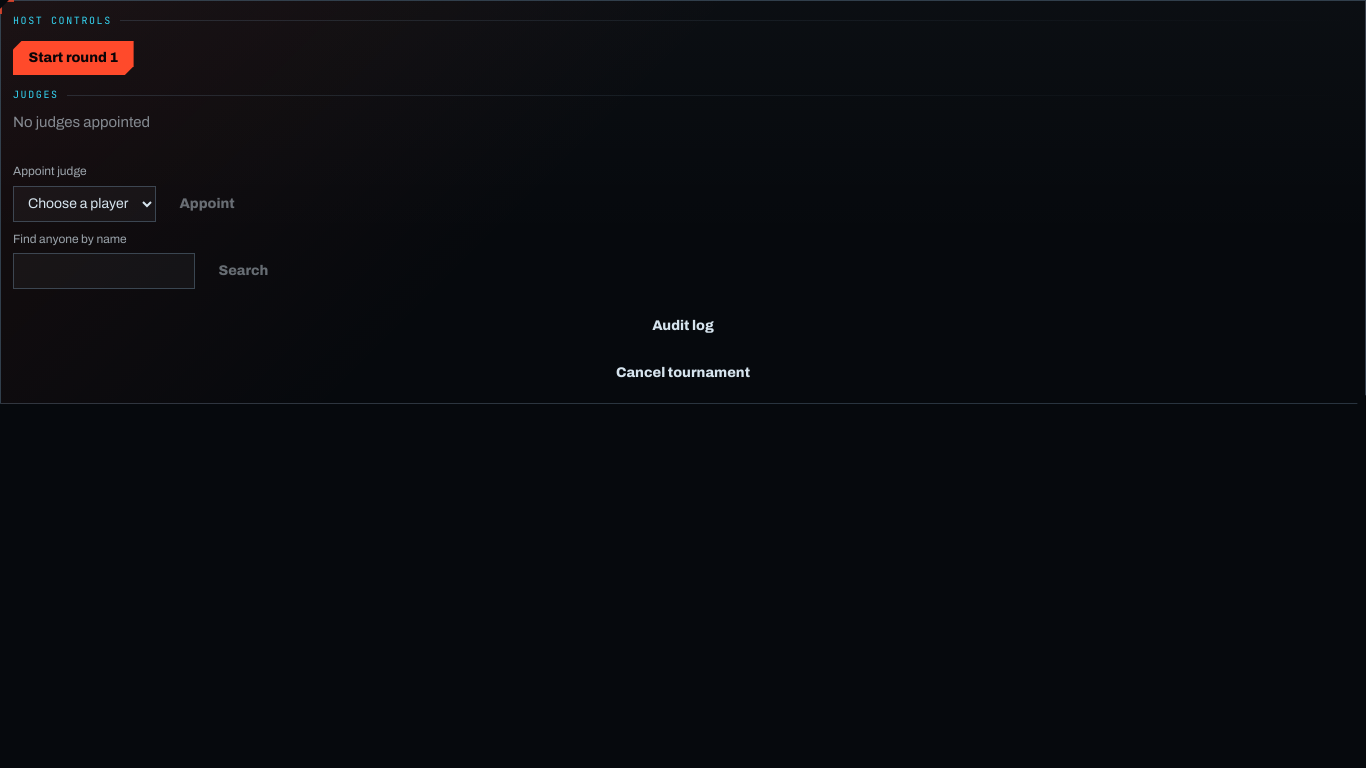
Test: lifecycle › closed: Start round 1 previews pairings and starts nothing until confirmed
The image size is (1366, 768).
Click the button "Start round 1".
click(73, 58)  # box [13, 40, 134, 75]
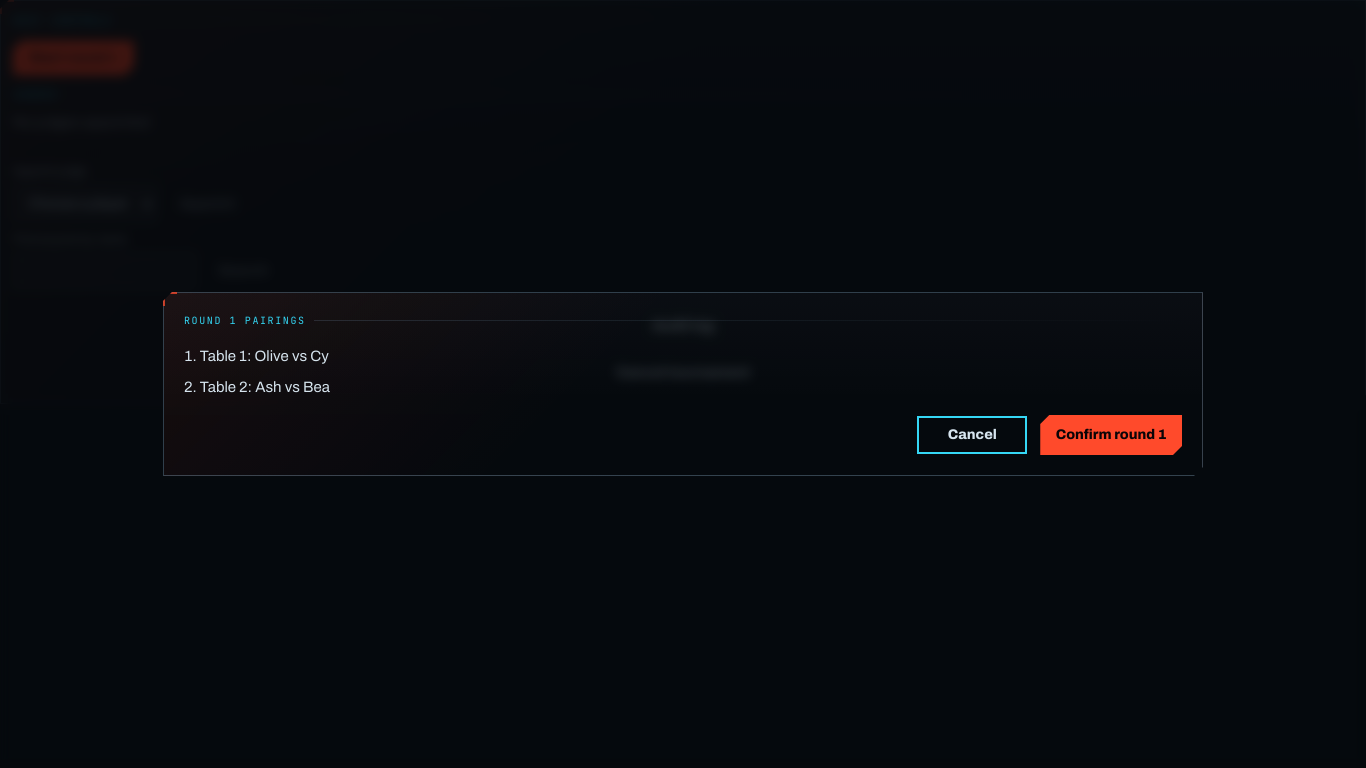
Check: the number of list items "Table 1: Olive vs Cy" is 2, box [200, 348, 329, 364]; [200, 379, 330, 395]
Click the button "Confirm round 1".
click(1111, 435)  # box [1040, 415, 1182, 455]
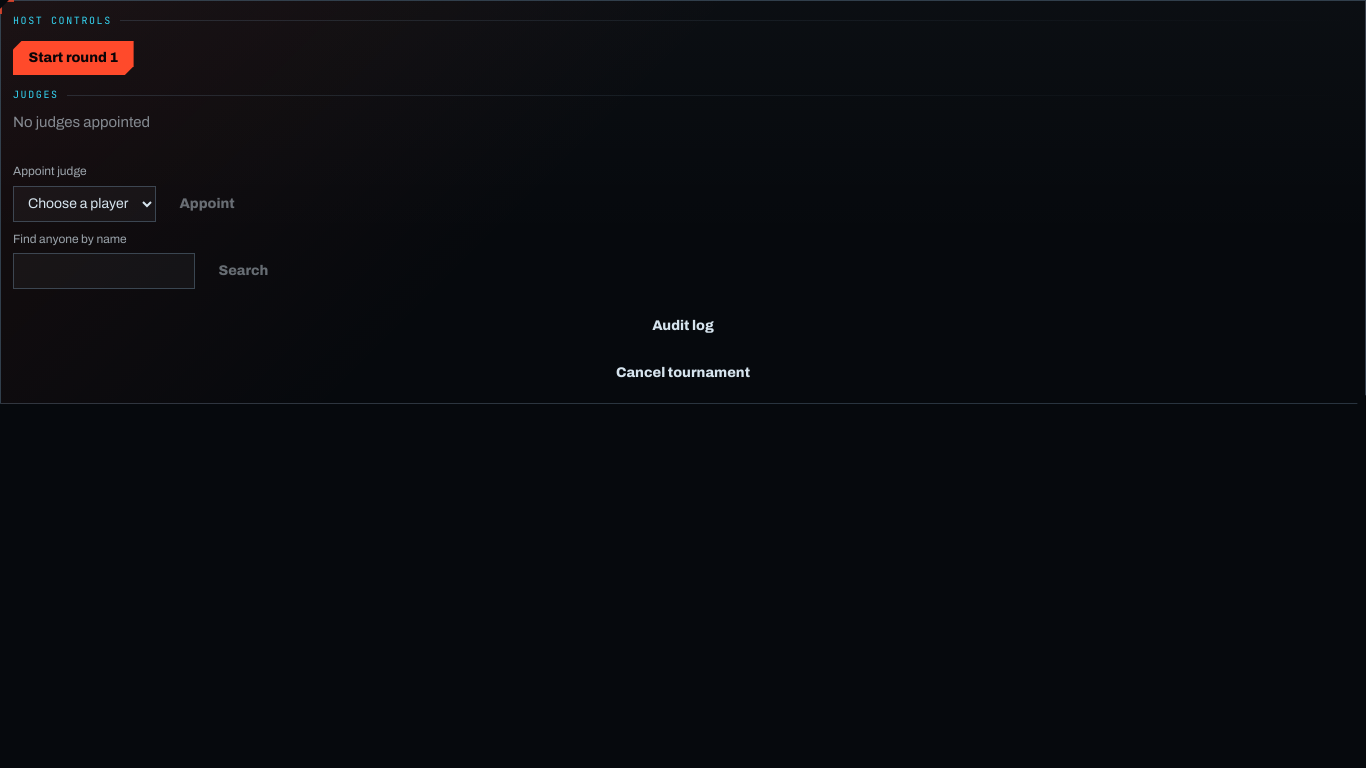
Check: the dialog is gone
